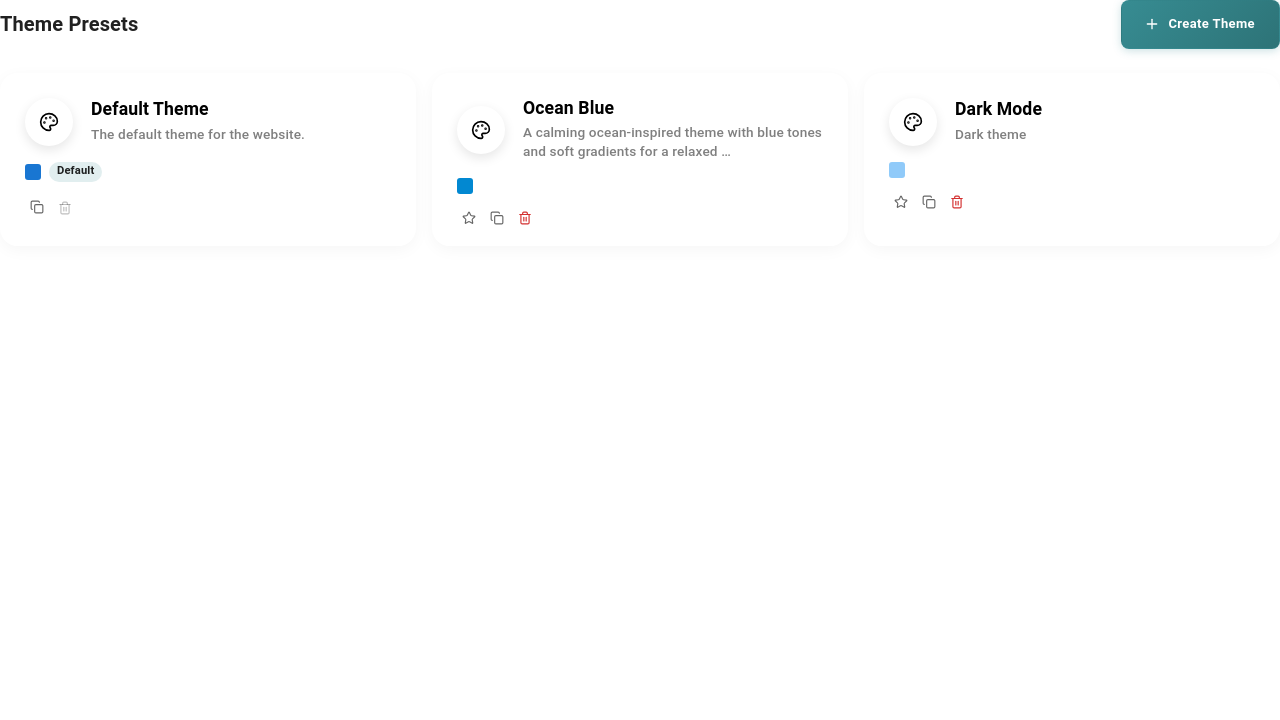
ThemeManager › clicking Delete opens ConfirmationDialog
Check: the heading "Ocean Blue" is shown, box [523, 98, 614, 118]
Click the button named "Delete Ocean Blue" at x=525, y=218, box [513, 206, 537, 230]
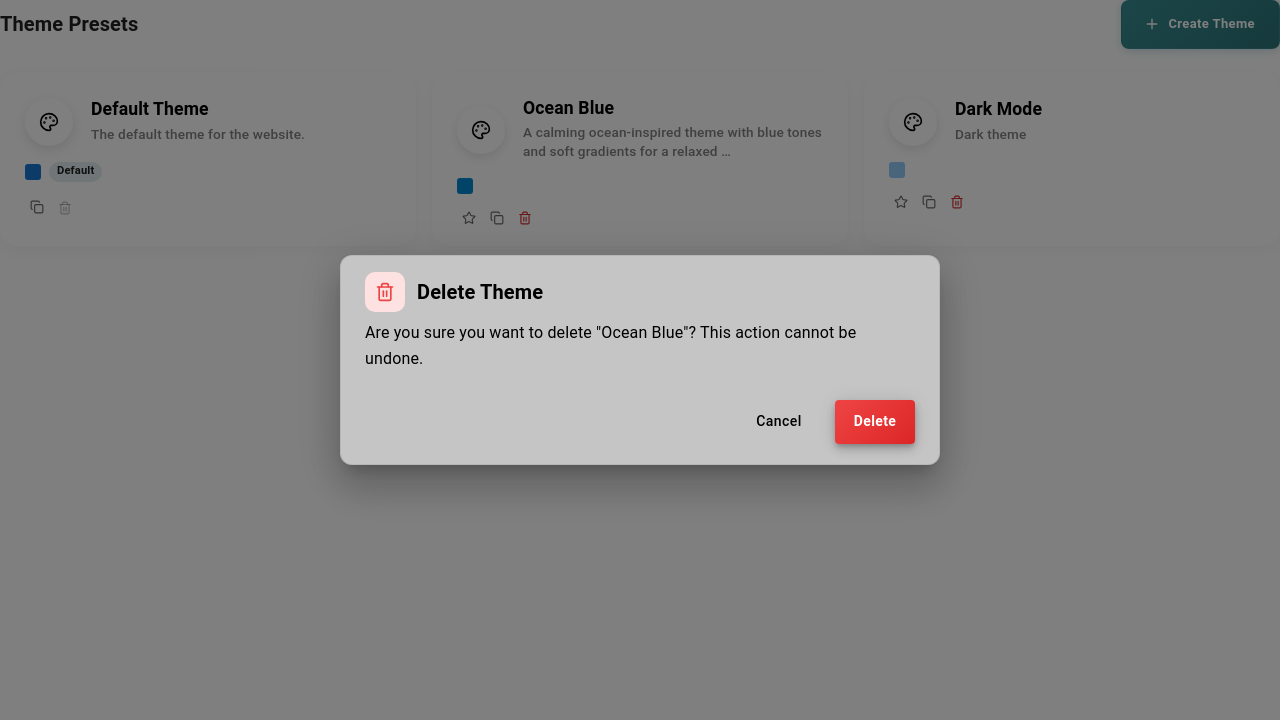
Check: the dialog is shown
